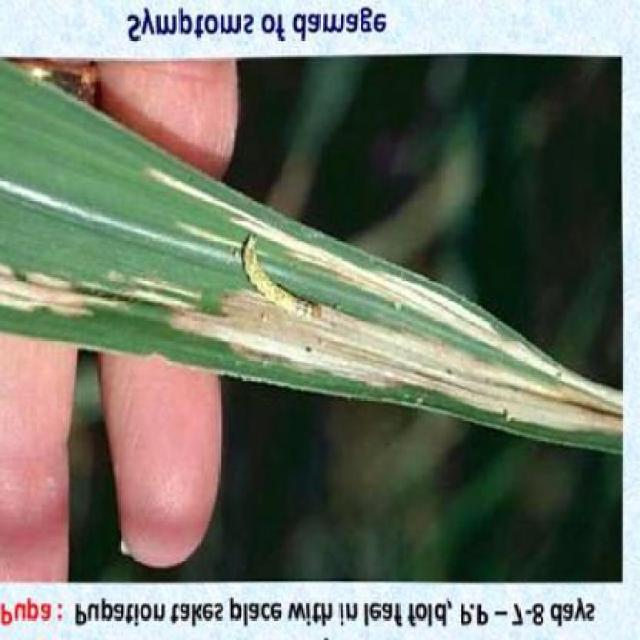leaf-folder: (222, 223, 332, 332)
